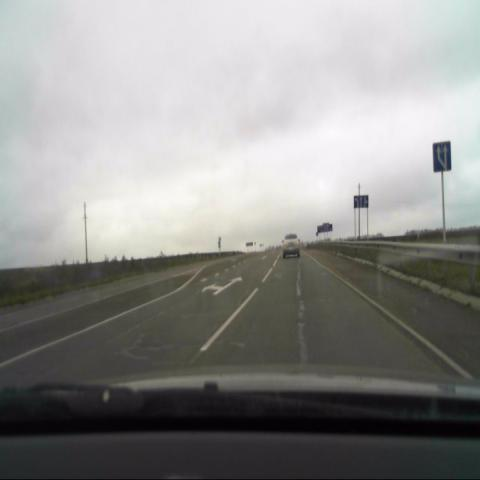5_15_1: (352, 195, 369, 208)
